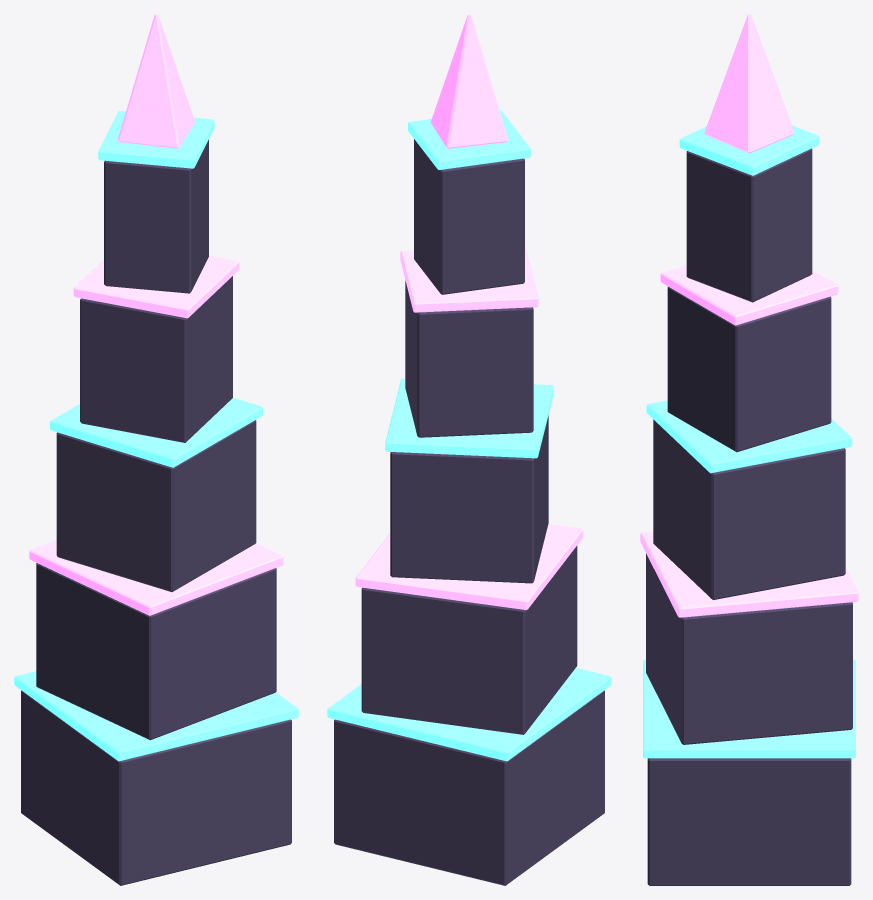
3 renders of one model, left to right at view 1: azimuth 30°, elevation 25°; view 2: azimuth 150°, elevation 25°; view 3: azimuth 270°, elevation 25°, orthographic.
Visible parts, largest first — view 1: DataTower; view 2: DataTower; view 3: DataTower.
Boxes of the visible parts, x1,y1,x2,y2 form: DataTower: (14, 14, 298, 885); DataTower: (327, 14, 611, 885); DataTower: (640, 14, 858, 885).
Bounding box in the file's own units: 1.4 × 5.85 × 1.4.
